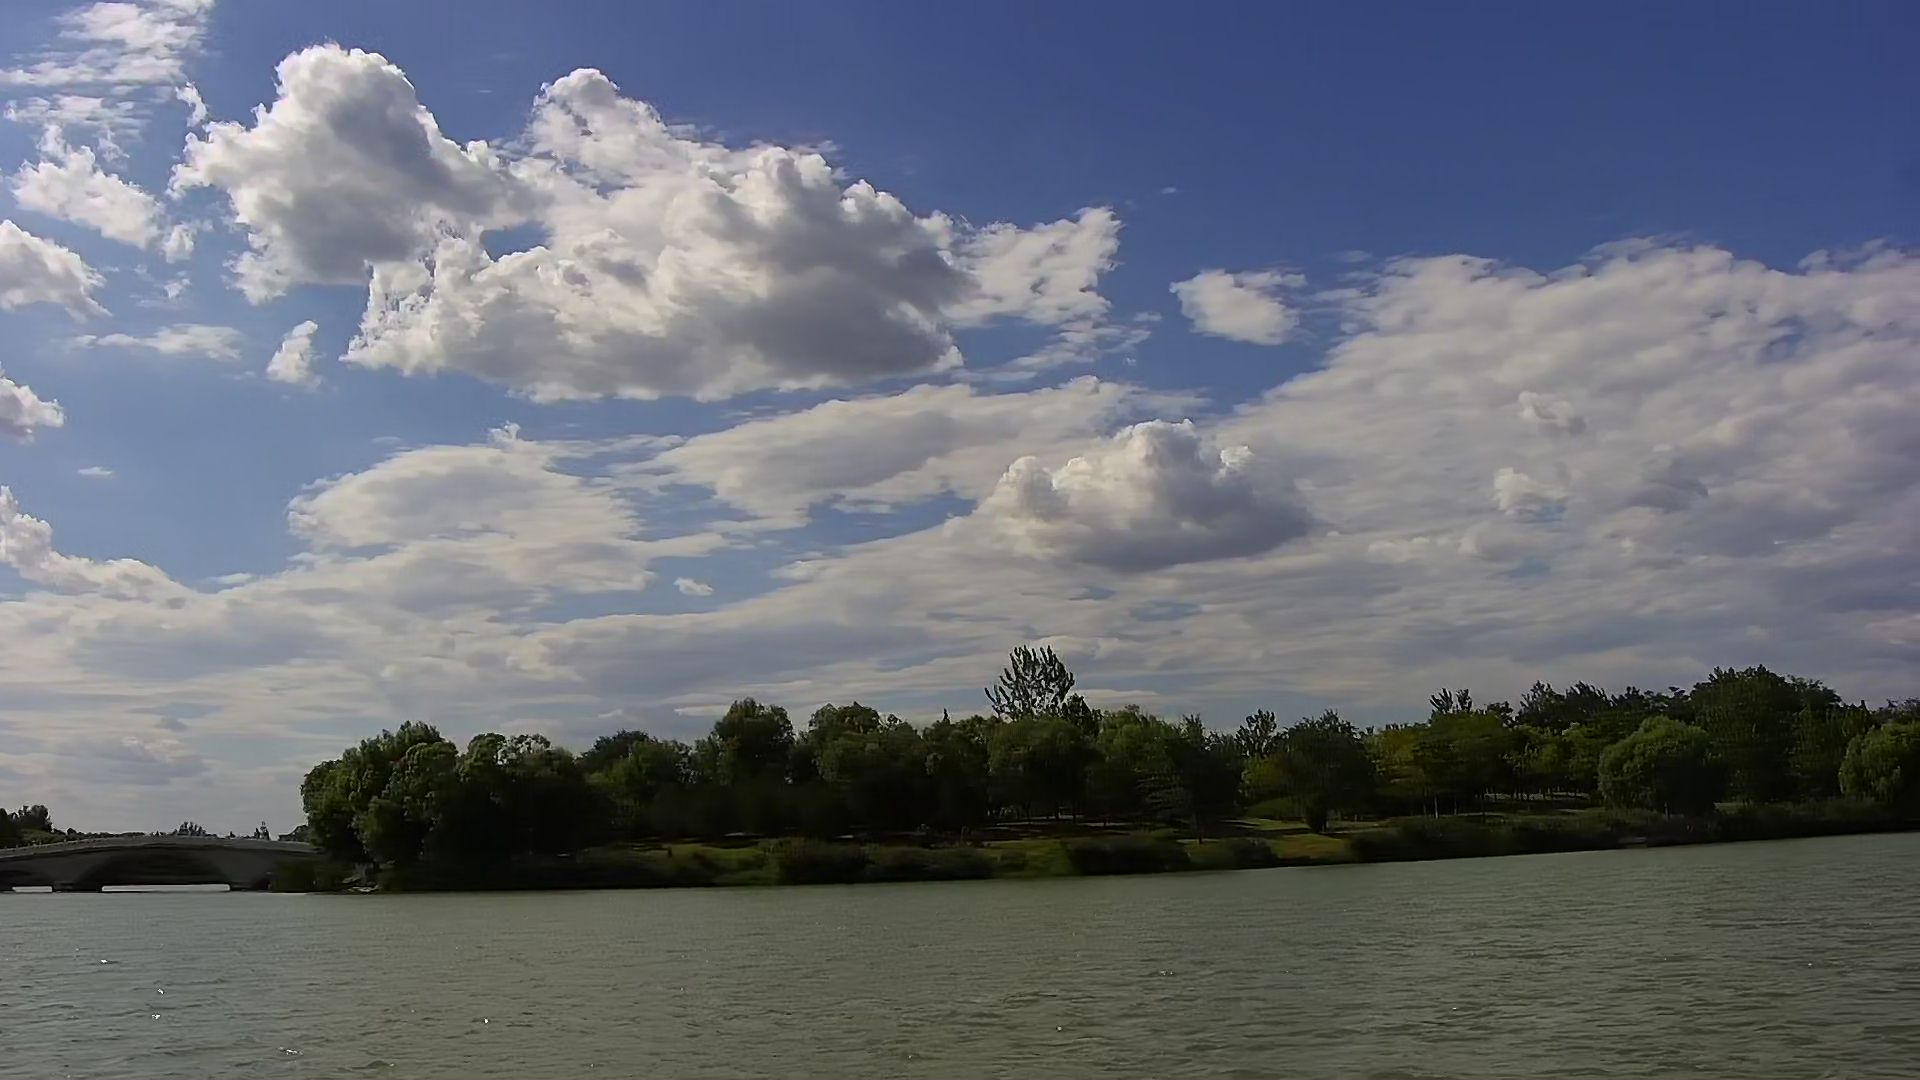bridge: (1, 831, 310, 899)
